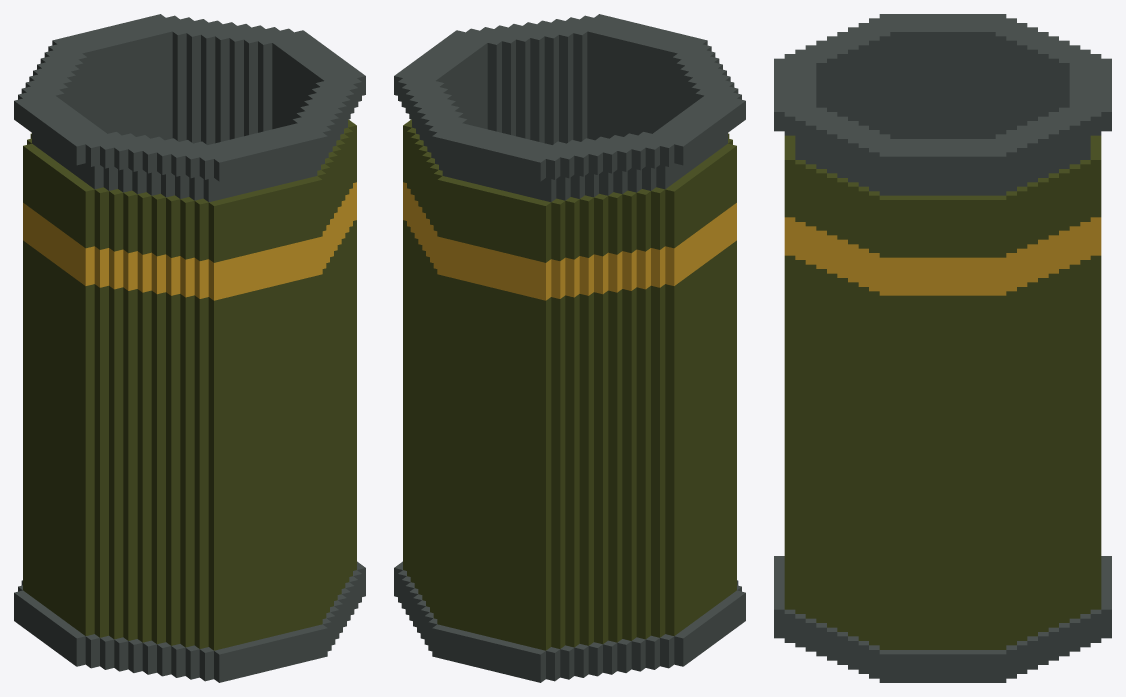
Rendered from canister_empty.glb.
3 renders of one model, left to right at view 1: azimuth 30°, elevation 25°; view 2: azimuth 150°, elevation 25°; view 3: azimuth 270°, elevation 25°, orthographic.
Visible parts, largest first — view 1: canister_empty:compound; view 2: canister_empty:compound; view 3: canister_empty:compound.
Boxes of the visible parts, box(x1,y1,x2,y2) form: canister_empty:compound: box(14, 14, 365, 682); canister_empty:compound: box(394, 14, 745, 682); canister_empty:compound: box(774, 14, 1111, 682).
Size of the model in its own units: 0.064 by 0.11 by 0.064.
